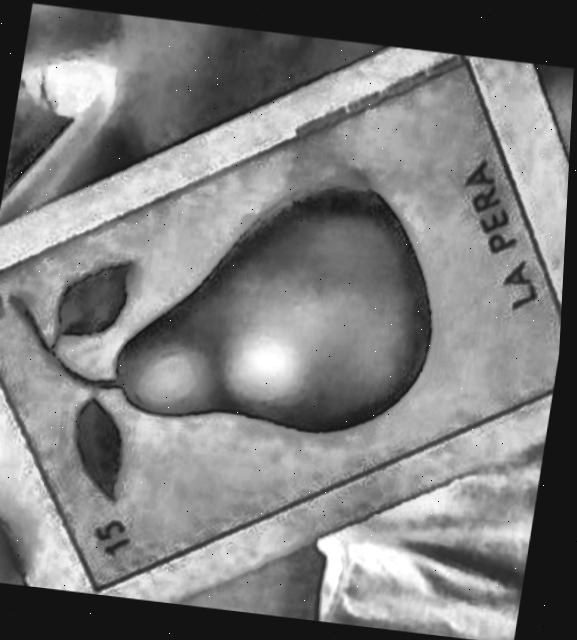La Pera: (0, 55, 564, 591)
